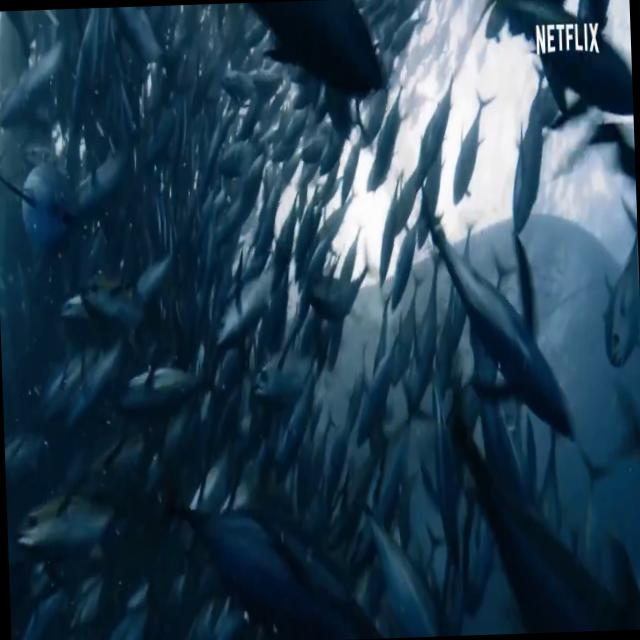fish: (438, 396, 640, 636), (416, 185, 590, 453), (166, 475, 384, 640), (499, 0, 633, 126), (249, 0, 400, 102), (364, 486, 445, 638), (212, 230, 308, 346), (109, 331, 217, 425), (6, 482, 132, 562), (590, 189, 640, 375), (247, 322, 321, 408), (364, 76, 414, 202), (73, 258, 144, 336), (452, 95, 501, 206), (408, 72, 455, 168)
